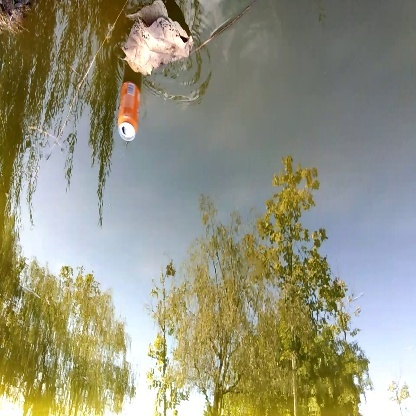bottle: (115, 79, 144, 142)
leaf: (117, 7, 201, 71)
